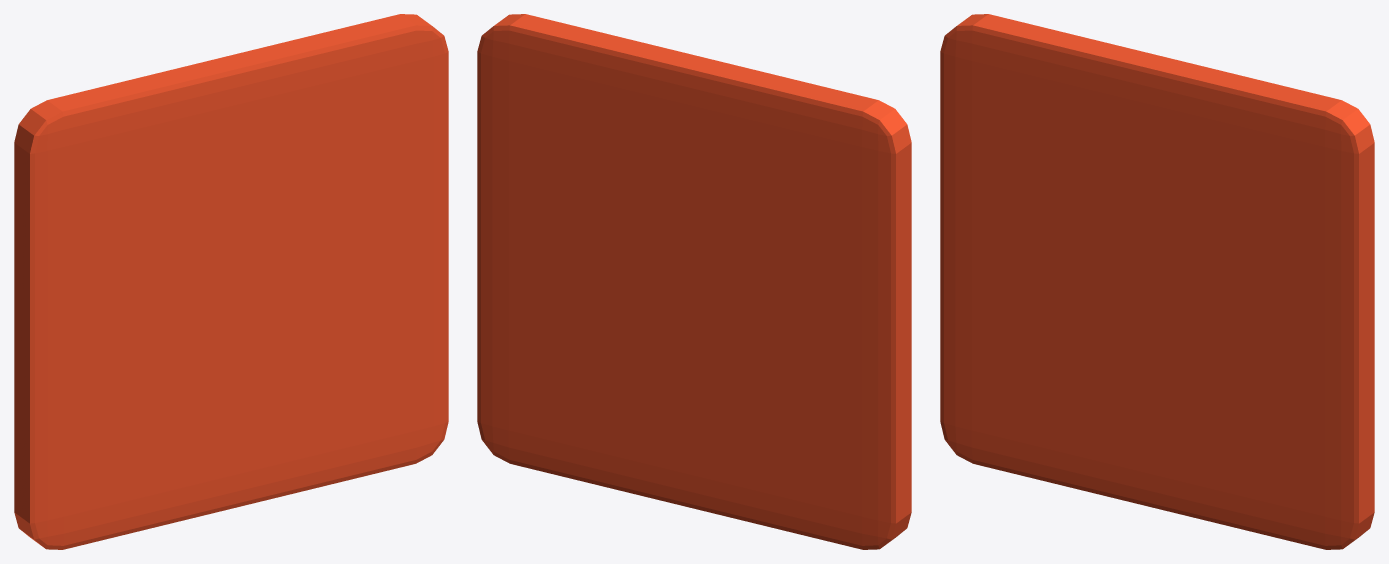
Rendered from experience button.glb.
The picture shows the model from 3 angles, left to right: view 1: azimuth 30°, elevation 25°; view 2: azimuth 150°, elevation 25°; view 3: azimuth 330°, elevation 25°; orthographic projection.
Parts seen in each view (by area): view 1: Cube.001; view 2: Cube.001; view 3: Cube.001.
Part boxes in pixels (x1,y1,x2,y2): Cube.001: (14,14,448,549); Cube.001: (477,14,911,549); Cube.001: (940,14,1374,549).
Bounding box in the file's own units: 11.17 × 11.17 × 0.8543.
